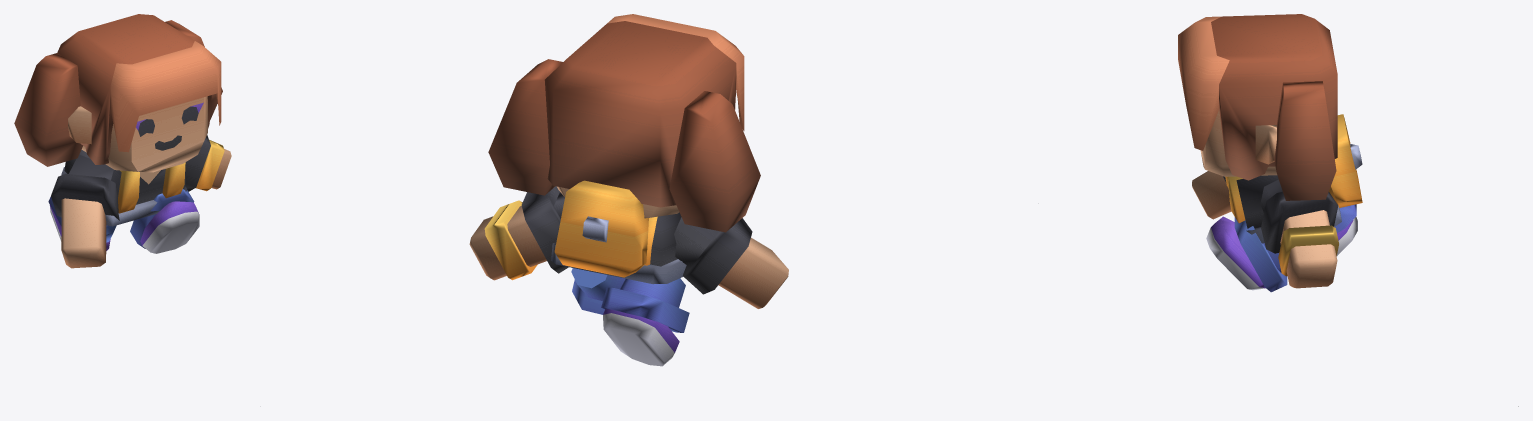
The model's file is climber_sprint_4.glb.
3 views of the same model, side by side, from view 1: azimuth 30°, elevation 25°; view 2: azimuth 150°, elevation 25°; view 3: azimuth 270°, elevation 25° (orthographic). The views are drawn at different scales.
Parts seen in each view (by area): view 1: climber-sprint-4; view 2: climber-sprint-4; view 3: climber-sprint-4.
Part boxes in pixels (<box>): climber-sprint-4: <box>14,14,231,268</box>; climber-sprint-4: <box>469,14,788,366</box>; climber-sprint-4: <box>1178,14,1518,406</box>.
Bounding box in the file's own units: 1.2 × 0.7411 × 1.2.
1 material, 1 textured.
